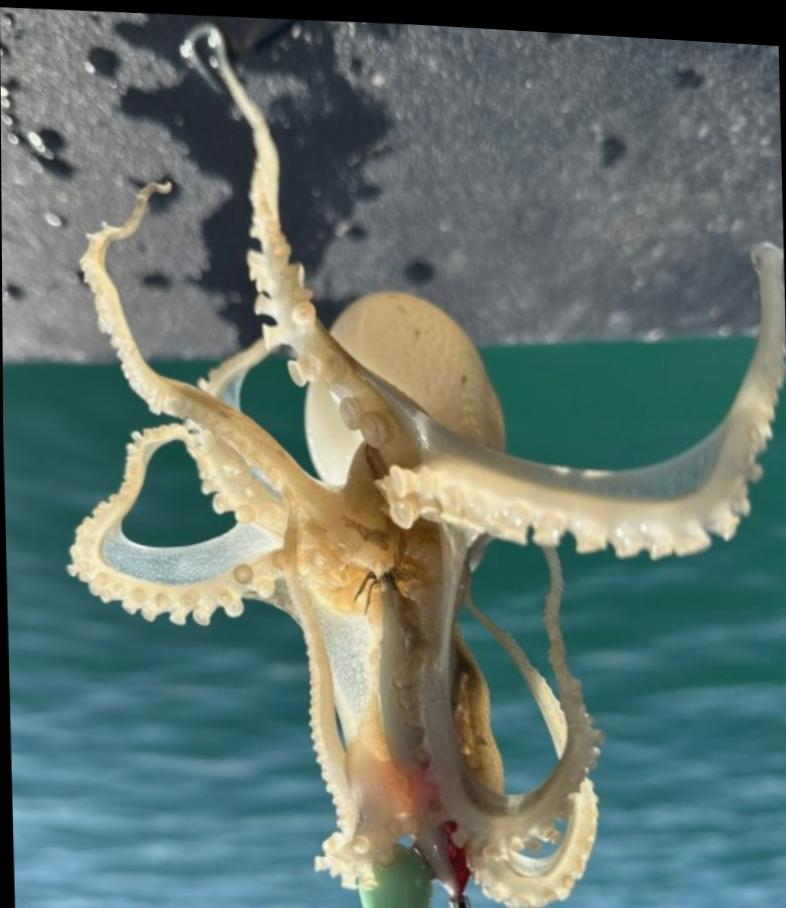Cephalopod: (67, 24, 786, 908)
